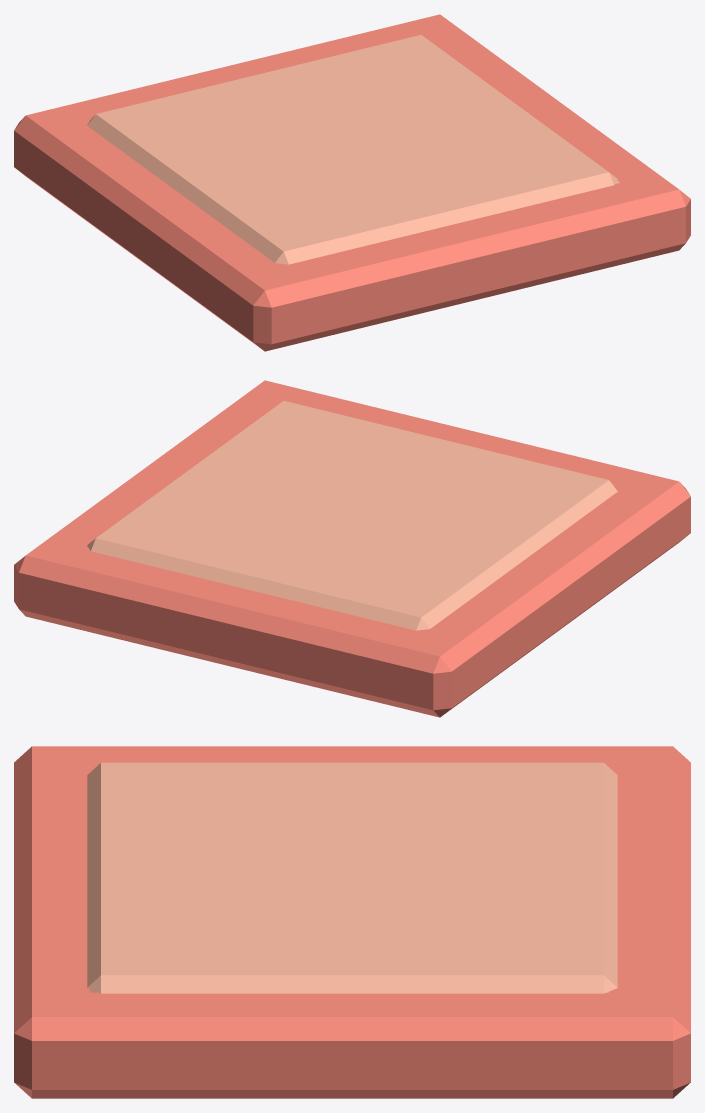
3 views of the same model, one above another, from view 1: azimuth 30°, elevation 25°; view 2: azimuth 150°, elevation 25°; view 3: azimuth 270°, elevation 25° (orthographic). The views are drawn at different scales.
Visible parts, largest first — view 1: Cube.001; view 2: Cube.001; view 3: Cube.001.
Boxes of the visible parts, x1,y1,x2,y2 form: Cube.001: [14, 14, 690, 351]; Cube.001: [14, 380, 690, 717]; Cube.001: [14, 746, 690, 1098].
Size of the model in its own units: 300 by 46.1 by 300.
